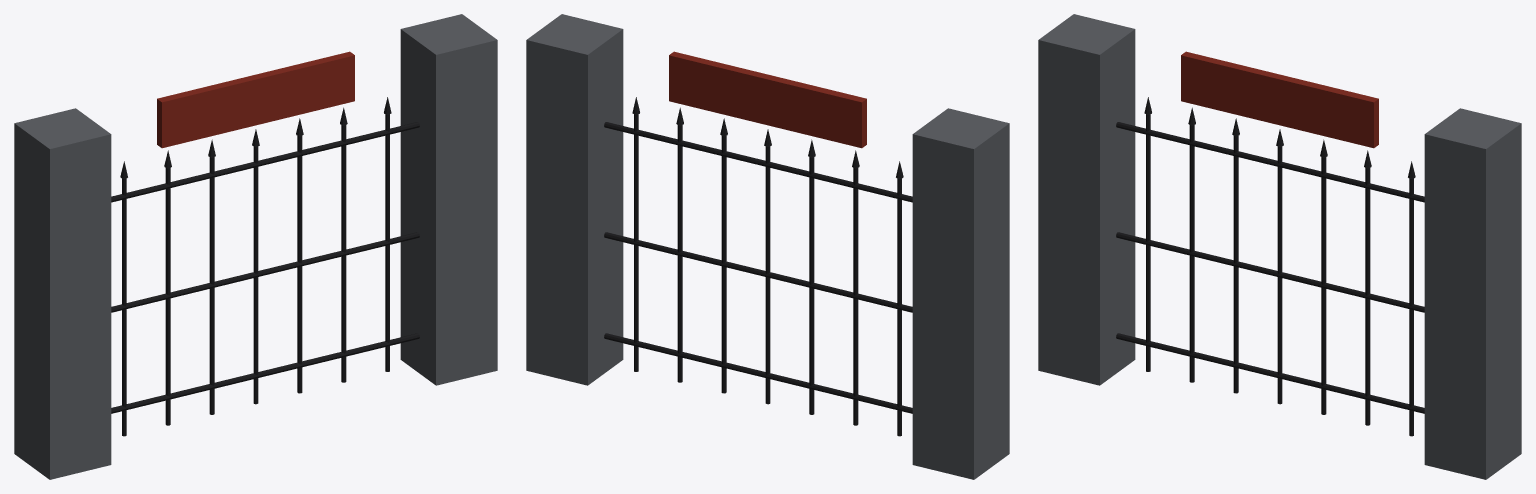
Rendered from gate.obj.
3 renders of one model, left to right at view 1: azimuth 30°, elevation 25°; view 2: azimuth 150°, elevation 25°; view 3: azimuth 330°, elevation 25°, orthographic.
Parts seen in each view (by area): view 1: Cube, Cube.001, Cube.002, Cylinder.002, Cylinder.001, Cylinder, Cylinder.007, Cylinder.008, Cylinder.005, Cylinder.006, Cylinder.004, Cylinder.003 (+1 smaller); view 2: Cube, Cube.001, Cube.002, Cylinder.002, Cylinder.001, Cylinder, Cylinder.007, Cylinder.008, Cylinder.005, Cylinder.006, Cylinder.004, Cylinder.003 (+1 smaller); view 3: Cube.001, Cube, Cube.002, Cylinder.002, Cylinder.001, Cylinder, Cylinder.004, Cylinder.005, Cylinder.006, Cylinder.007, Cylinder.008, Cylinder.009 (+1 smaller).
Part boxes in pixels (left/top/right/bottom): Cube: left=14, top=108, right=111, bottom=479; Cube.001: left=400, top=14, right=497, bottom=385; Cube.002: left=157, top=51, right=354, bottom=148; Cylinder.002: left=111, top=122, right=419, bottom=202; Cylinder.001: left=111, top=232, right=419, bottom=312; Cylinder: left=111, top=333, right=419, bottom=413; Cylinder.007: left=297, top=135, right=302, bottom=393; Cylinder.008: left=341, top=125, right=346, bottom=382; Cylinder.005: left=209, top=157, right=214, bottom=414; Cylinder.006: left=253, top=146, right=258, bottom=404; Cylinder.004: left=165, top=168, right=170, bottom=425; Cylinder.003: left=122, top=178, right=126, bottom=436; Cube: left=912, top=108, right=1009, bottom=479; Cube.001: left=526, top=14, right=623, bottom=385; Cube.002: left=669, top=51, right=866, bottom=148; Cylinder.002: left=604, top=122, right=912, bottom=202; Cylinder.001: left=604, top=232, right=912, bottom=312; Cylinder: left=604, top=333, right=912, bottom=413; Cylinder.007: left=721, top=135, right=726, bottom=393; Cylinder.008: left=677, top=125, right=682, bottom=382; Cylinder.005: left=809, top=157, right=814, bottom=414; Cylinder.006: left=765, top=146, right=770, bottom=404; Cylinder.004: left=853, top=168, right=858, bottom=425; Cylinder.003: left=897, top=178, right=901, bottom=436; Cube.001: left=1424, top=108, right=1521, bottom=479; Cube: left=1038, top=14, right=1135, bottom=385; Cube.002: left=1181, top=51, right=1378, bottom=148; Cylinder.002: left=1116, top=122, right=1424, bottom=202; Cylinder.001: left=1116, top=232, right=1424, bottom=312; Cylinder: left=1116, top=333, right=1424, bottom=413; Cylinder.004: left=1189, top=125, right=1194, bottom=382; Cylinder.005: left=1233, top=135, right=1238, bottom=393; Cylinder.006: left=1277, top=146, right=1282, bottom=404; Cylinder.007: left=1321, top=157, right=1326, bottom=414; Cylinder.008: left=1365, top=168, right=1370, bottom=425; Cylinder.009: left=1409, top=178, right=1413, bottom=436.
Bounding box in the file's own units: 5.1 × 3.65 × 0.7.
